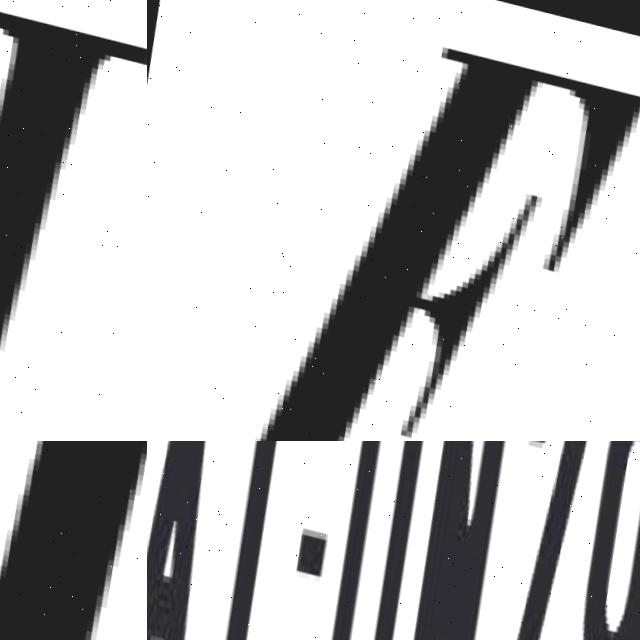0: (276, 441, 463, 640)
7: (433, 441, 621, 640)
9: (505, 441, 640, 640)
A: (147, 441, 267, 640)
F: (157, 0, 640, 441)
J: (0, 0, 147, 441)
L: (0, 441, 147, 640)
N: (358, 441, 546, 640)
T: (154, 441, 334, 640)
